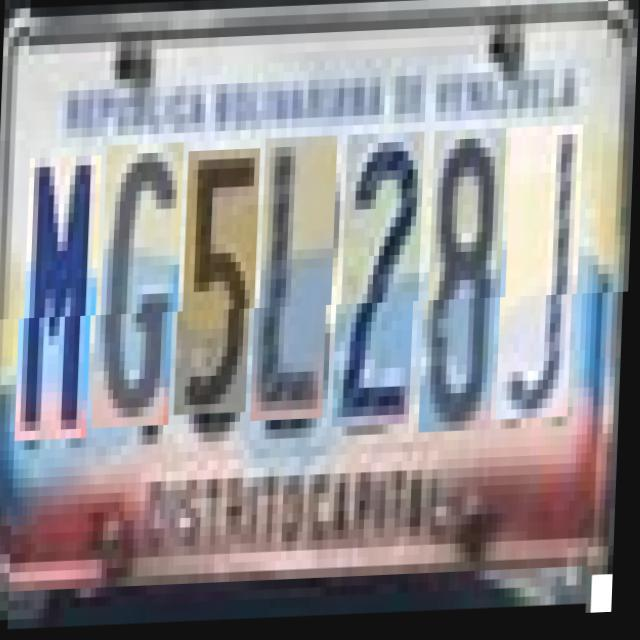2: (340, 136, 426, 430)
5: (182, 151, 262, 417)
8: (427, 133, 507, 436)
G: (100, 144, 185, 429)
J: (504, 130, 584, 424)
L: (258, 139, 338, 424)
M: (22, 156, 102, 441)
